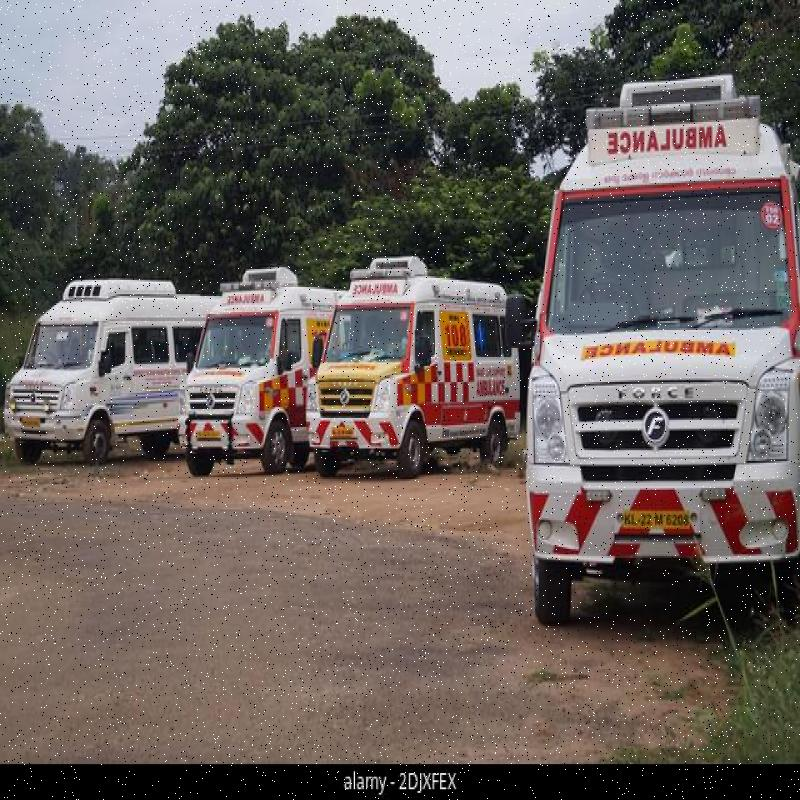ambulance: (525, 72, 800, 623), (313, 254, 503, 453), (182, 267, 323, 465)
